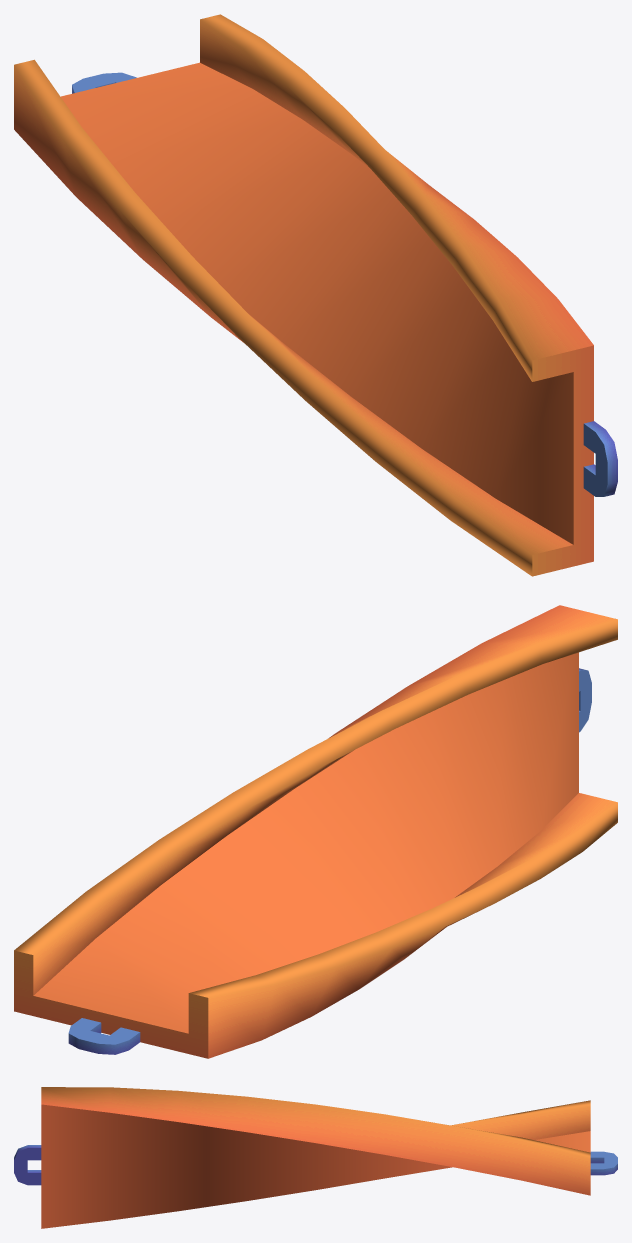
Rendered from track-narrow-straight-skew-right-side.glb.
3 views of the same model, one above another, from view 1: azimuth 30°, elevation 25°; view 2: azimuth 150°, elevation 25°; view 3: azimuth 270°, elevation 25° (orthographic). The views are drawn at different scales.
Parts seen in each view (by area): view 1: track-narrow-straight-skew-right-side; view 2: track-narrow-straight-skew-right-side; view 3: track-narrow-straight-skew-right-side.
Part boxes in pixels (box(x1,y1,x2,y2)): track-narrow-straight-skew-right-side: box(14, 14, 617, 576); track-narrow-straight-skew-right-side: box(14, 605, 617, 1058); track-narrow-straight-skew-right-side: box(14, 1087, 617, 1228).
Size of the model in its own units: 1.08 by 1.08 by 4.4.
Materials: 1 (1 with a texture image).
